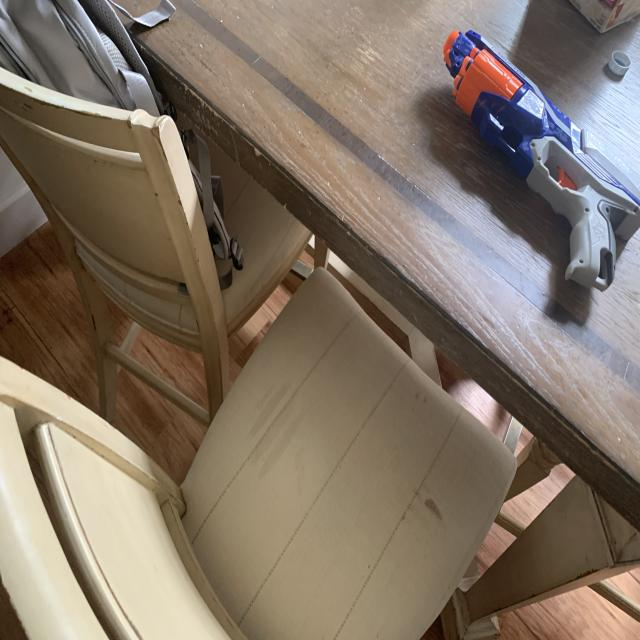nerf-maverik: (441, 8, 640, 300)
